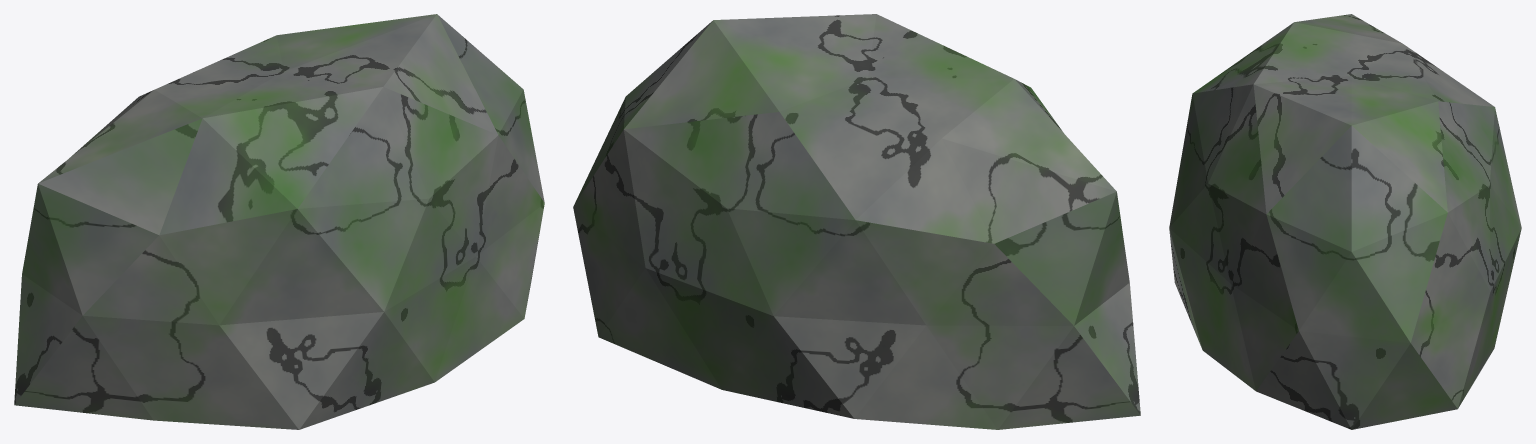
Rendered from boulder_mossy_b.glb.
The picture shows the model from 3 angles, left to right: view 1: azimuth 30°, elevation 25°; view 2: azimuth 150°, elevation 25°; view 3: azimuth 270°, elevation 25°; orthographic projection. The views are drawn at different scales.
Parts seen in each view (by area): view 1: boulder_mossy_b__stone; view 2: boulder_mossy_b__stone; view 3: boulder_mossy_b__stone.
Boxes of the visible parts, bbox=[...] form: boulder_mossy_b__stone: bbox=[14, 14, 544, 429]; boulder_mossy_b__stone: bbox=[573, 14, 1140, 429]; boulder_mossy_b__stone: bbox=[1169, 14, 1521, 429].
Bounding box in the file's own units: 3.92 × 2.04 × 2.49.
1 material, 1 textured.
